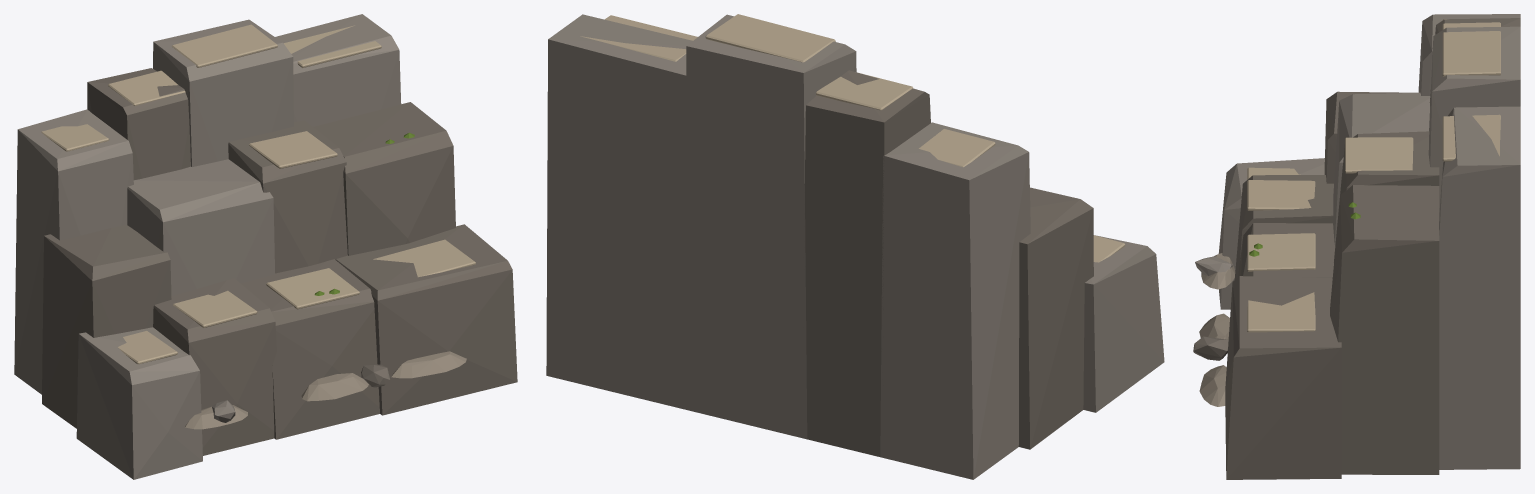
Rendered from Strata_High.fbx.
The picture shows the model from 3 angles, left to right: view 1: azimuth 30°, elevation 25°; view 2: azimuth 150°, elevation 25°; view 3: azimuth 270°, elevation 25°; orthographic projection. The views are drawn at different scales.
Parts seen in each view (by area): view 1: CliffDark, Cliff, RockLight, Gravel; view 2: Cliff, CliffDark, RockLight; view 3: CliffDark, Cliff, RockLight, Gravel.
Boxes of the visible parts, x1,y1,x2,y2 form: CliffDark: [42, 68, 517, 455]; Cliff: [14, 14, 401, 479]; RockLight: [41, 24, 475, 364]; Gravel: [185, 351, 466, 429]; Cliff: [546, 14, 1164, 479]; CliffDark: [804, 70, 1093, 456]; RockLight: [580, 14, 1125, 262]; CliffDark: [1193, 18, 1520, 479]; Cliff: [1195, 14, 1520, 469]; RockLight: [1247, 19, 1500, 332]; Gravel: [1199, 253, 1235, 406].
Bounding box in the file's own units: 30.36 × 22.5 × 20.11.
